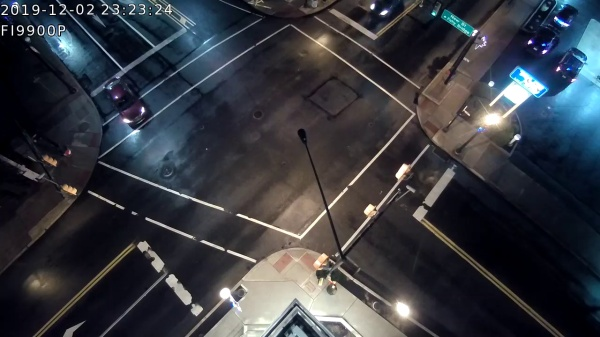car: (100, 69, 148, 130), (553, 45, 585, 91), (523, 24, 554, 60), (555, 2, 576, 30)
